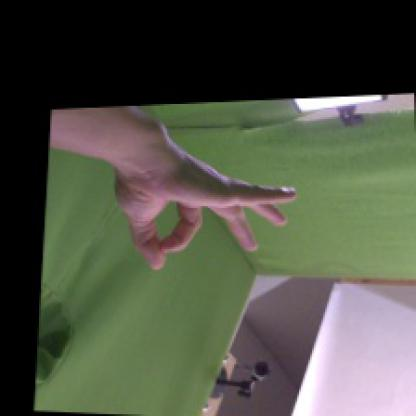Hand: (113, 150, 298, 269)
